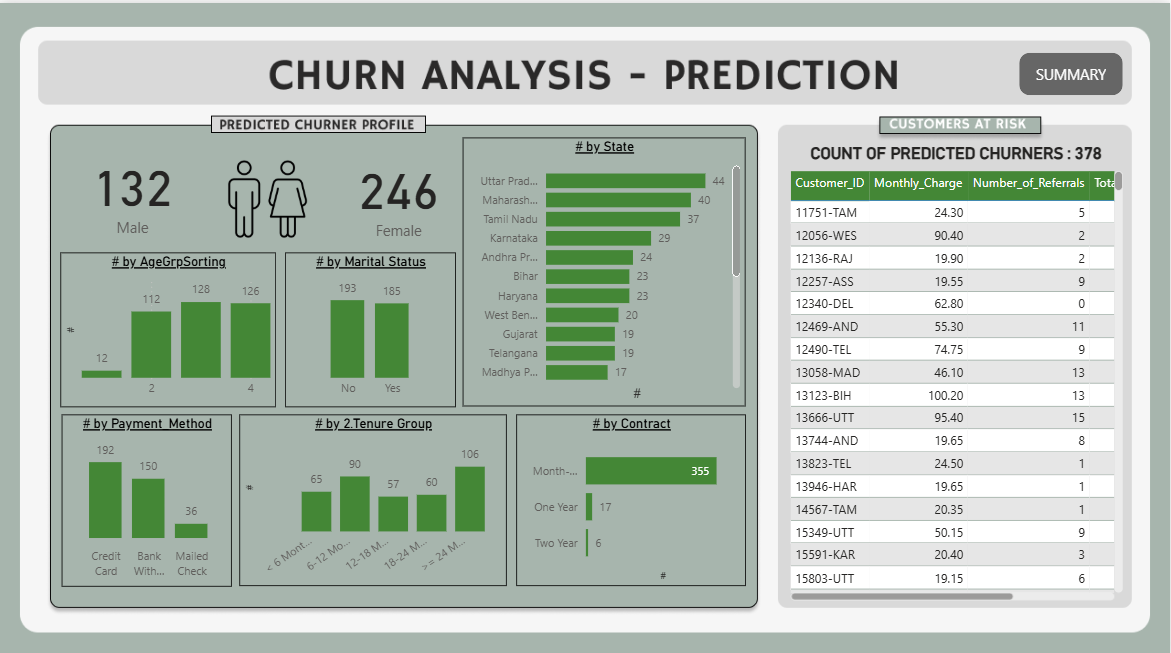

The dashboard page shown, as its layout file describes it:
{"tool":"powerbi","page":{"name":"Prediction","canvas":[1280,720],"ordinal":1},"visuals":[{"type":"tableEx","fields":{"Values":["Predictions.Customer_ID","Predictions.Monthly_Charge","Predictions.Number_of_Referrals","Predictions.Total_Refunds","Predictions.Total_Revenue"]},"box":[860,178,374,480],"z":0},{"type":"card","fields":{"Values":["tbl_measures.Title Predicted Churner"]},"box":[864,150,364,28],"z":1000},{"type":"card","fields":{"Values":["tbl_measures.Count Predicted Churner"]},"box":[68,148,154,116],"z":2000},{"type":"clusteredColumnChart","fields":{"Category":["mapping_AgeGroup.AgeGrpSorting"],"Y":["CountNonNull(Predictions.Customer_ID)"]},"box":[67.8,272.2,235.6,168.9],"z":3000},{"type":"card","fields":{"Values":["tbl_measures.Count Predicted Churner"]},"box":[366,152,142,116],"z":4000},{"type":"clusteredColumnChart","fields":{"Category":["Predictions.Payment_Method"],"Y":["CountNonNull(Predictions.Customer_ID)"]},"box":[68,450,186,188],"z":5000},{"type":"clusteredColumnChart","fields":{"Category":["Predictions.Married"],"Y":["CountNonNull(Predictions.Customer_ID)"]},"box":[312.2,272.2,186.7,168.9],"z":6000},{"type":"clusteredColumnChart","fields":{"Category":["mapping_TenureGrp.2.Tenure Group "],"Y":["CountNonNull(Predictions.Customer_ID)"]},"box":[263.3,450,292.2,187.8],"z":7000},{"type":"clusteredBarChart","fields":{"Category":["Predictions.State"],"Y":["CountNonNull(Predictions.Customer_ID)"]},"box":[507.2,147.5,309.3,293.7],"z":8000},{"type":"clusteredBarChart","fields":{"Category":["Predictions.Contract"],"Y":["CountNonNull(Predictions.Customer_ID)"]},"box":[565.5,450.3,251,187.6],"z":9000},{"type":"image","box":[222,164,144,100],"z":10000},{"type":"shape","box":[1115.6,54.4,113.3,46.7],"z":11000}]}

Visuals, with their boxes in screenshot pixels (x1, y1, x2, y2), scaled from the page's 1280x720 canvas onto the 1171x653 screenshot:
tableEx - Predictions.Customer_ID x Predictions.Monthly_Charge: bbox=(787, 161, 1129, 597)
card - tbl_measures.Title Predicted Churner: bbox=(790, 136, 1123, 161)
card - tbl_measures.Count Predicted Churner: bbox=(62, 134, 203, 239)
clusteredColumnChart - mapping_AgeGroup.AgeGrpSorting x CountNonNull(Predictions.Customer_ID): bbox=(62, 247, 278, 400)
card - tbl_measures.Count Predicted Churner: bbox=(335, 138, 465, 243)
clusteredColumnChart - Predictions.Payment_Method x CountNonNull(Predictions.Customer_ID): bbox=(62, 408, 232, 579)
clusteredColumnChart - Predictions.Married x CountNonNull(Predictions.Customer_ID): bbox=(286, 247, 456, 400)
clusteredColumnChart - mapping_TenureGrp.2.Tenure Group  x CountNonNull(Predictions.Customer_ID): bbox=(241, 408, 508, 578)
clusteredBarChart - Predictions.State x CountNonNull(Predictions.Customer_ID): bbox=(464, 134, 747, 400)
clusteredBarChart - Predictions.Contract x CountNonNull(Predictions.Customer_ID): bbox=(517, 408, 747, 579)
image: bbox=(203, 149, 335, 239)
shape: bbox=(1021, 49, 1124, 92)
